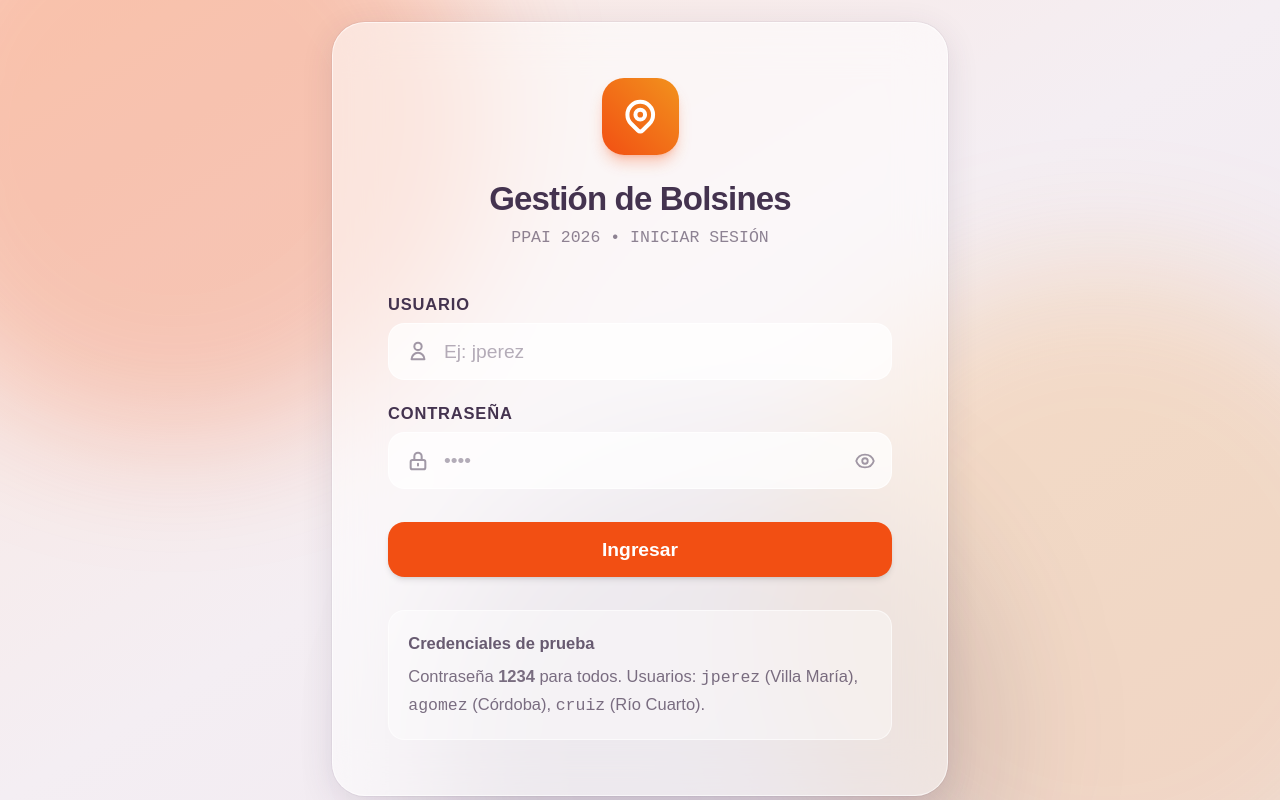
Test case: Login › muestra un mensaje de error cuando falla la autenticación
The image size is (1280, 800).
Type "jperez" into the field labelled "Usuario" at [640, 351], box left=388, top=323, right=892, bottom=380
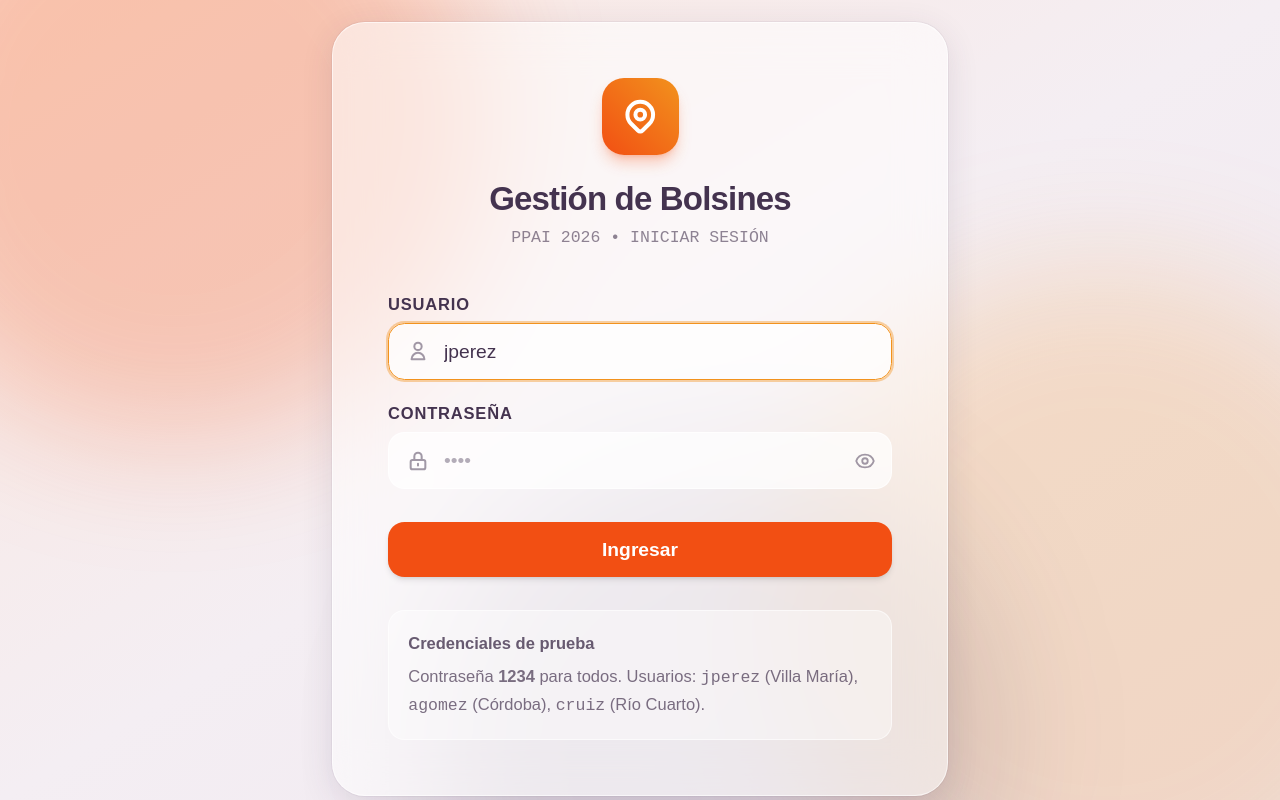
Type "mala-clave" into the password field labelled "Contraseña" at [640, 460], box left=388, top=432, right=892, bottom=489
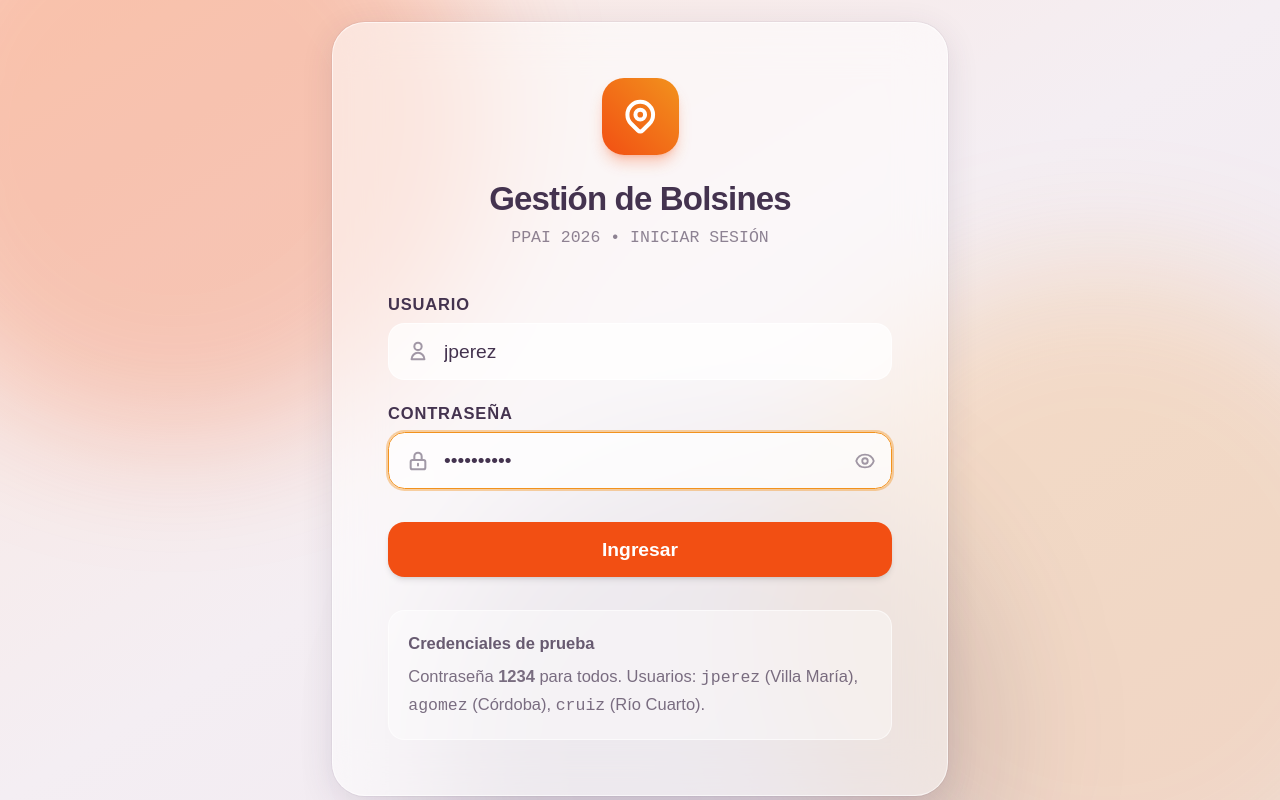
Click the button "Ingresar" at [640, 550], box left=388, top=522, right=892, bottom=577
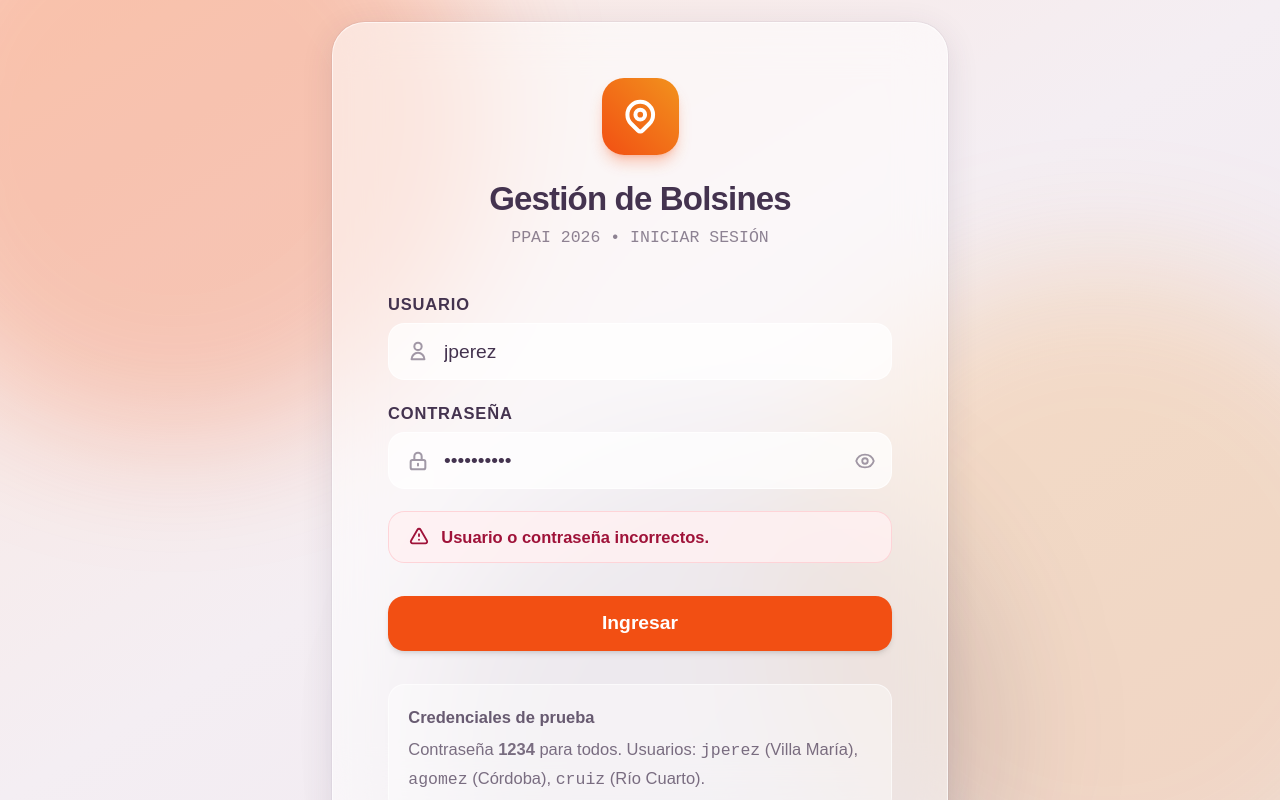
Expected: the message reads "Usuario o contraseña incorrectos.", left=441, top=528, right=709, bottom=546
